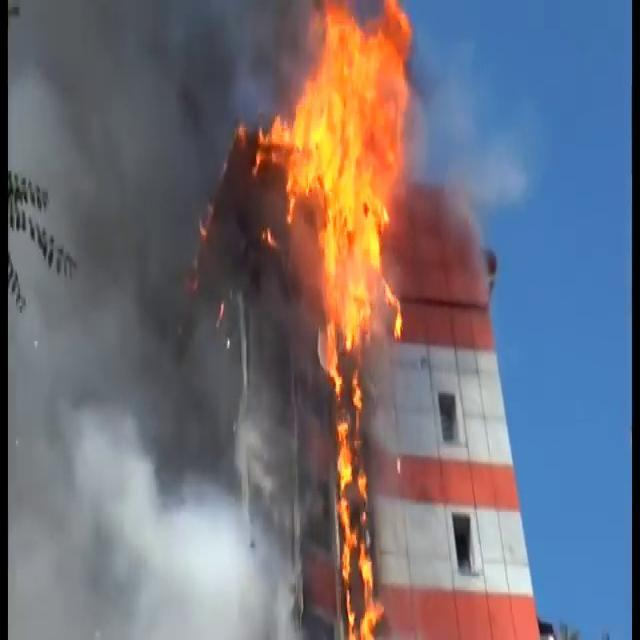Fire: (264, 2, 419, 626)
Smoke: (9, 1, 307, 628)
